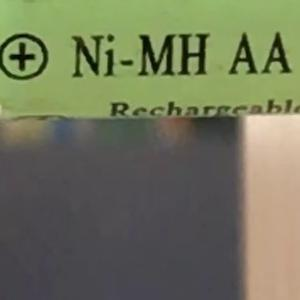NI-MH: (62, 24, 218, 87)
